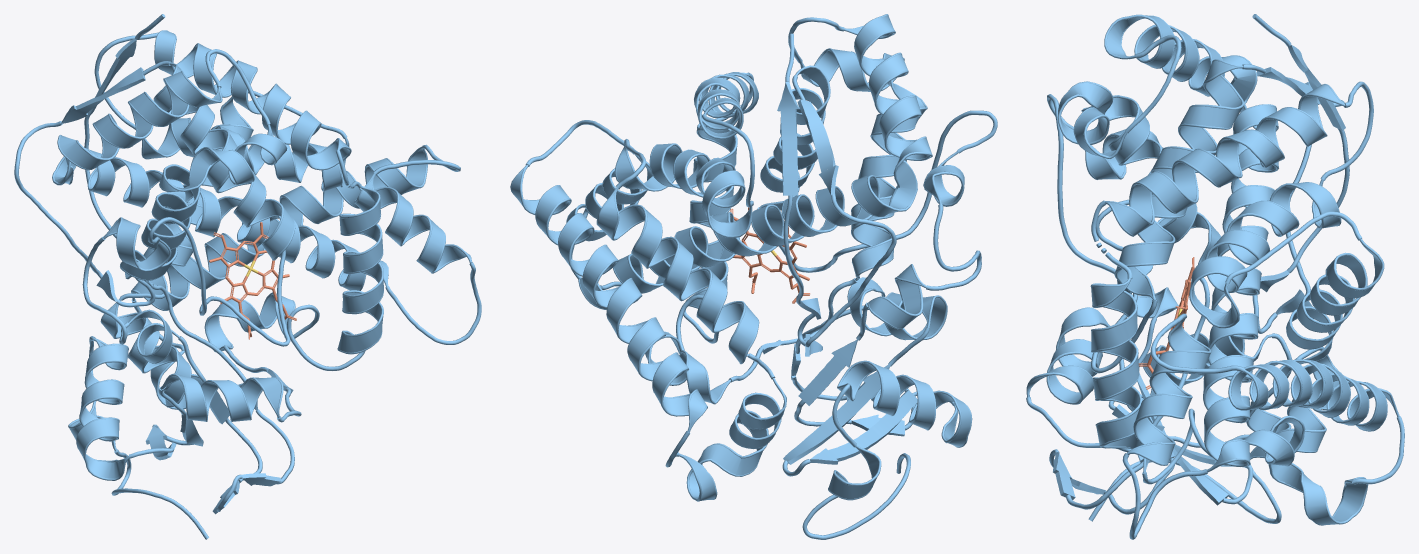
File: enzymeblue.glb
The picture shows the model from 3 angles, left to right: view 1: azimuth 30°, elevation 25°; view 2: azimuth 150°, elevation 25°; view 3: azimuth 270°, elevation 25°; orthographic projection. The views are drawn at different scales.
Parts seen in each view (by area): view 1: node-geom71, node-geom69, node-geom73, node-geom70, node-geom72; view 2: node-geom71, node-geom70, node-geom69, node-geom73, node-geom72; view 3: node-geom70, node-geom71, node-geom69, node-geom73, node-geom72.
Boxes of the visible parts, <box> form: node-geom71: <box>52,71,481,409</box>; node-geom69: <box>68,186,383,539</box>; node-geom73: <box>14,14,295,514</box>; node-geom70: <box>94,30,383,406</box>; node-geom72: <box>52,49,388,511</box>; node-geom71: <box>510,14,931,501</box>; node-geom70: <box>596,72,786,500</box>; node-geom69: <box>645,123,972,539</box>; node-geom73: <box>757,33,997,436</box>; node-geom72: <box>578,14,932,434</box>; node-geom70: <box>1091,81,1384,525</box>; node-geom71: <box>1104,15,1404,539</box>; node-geom69: <box>1026,278,1305,523</box>; node-geom73: <box>1047,14,1349,514</box>; node-geom72: <box>1049,14,1278,509</box>.
Size of the model in its own units: 55.41 by 63.5 by 41.3.
